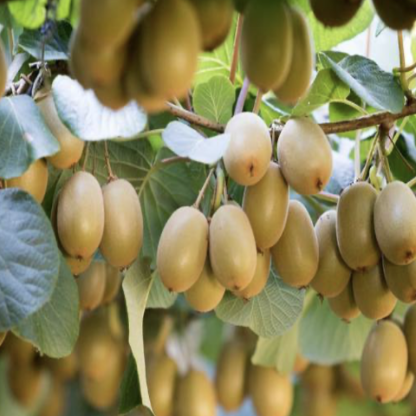kiwi: (332, 172, 393, 289), (155, 183, 214, 303), (90, 170, 151, 272), (277, 112, 338, 204), (199, 195, 258, 289), (358, 312, 412, 408), (56, 165, 104, 268)
